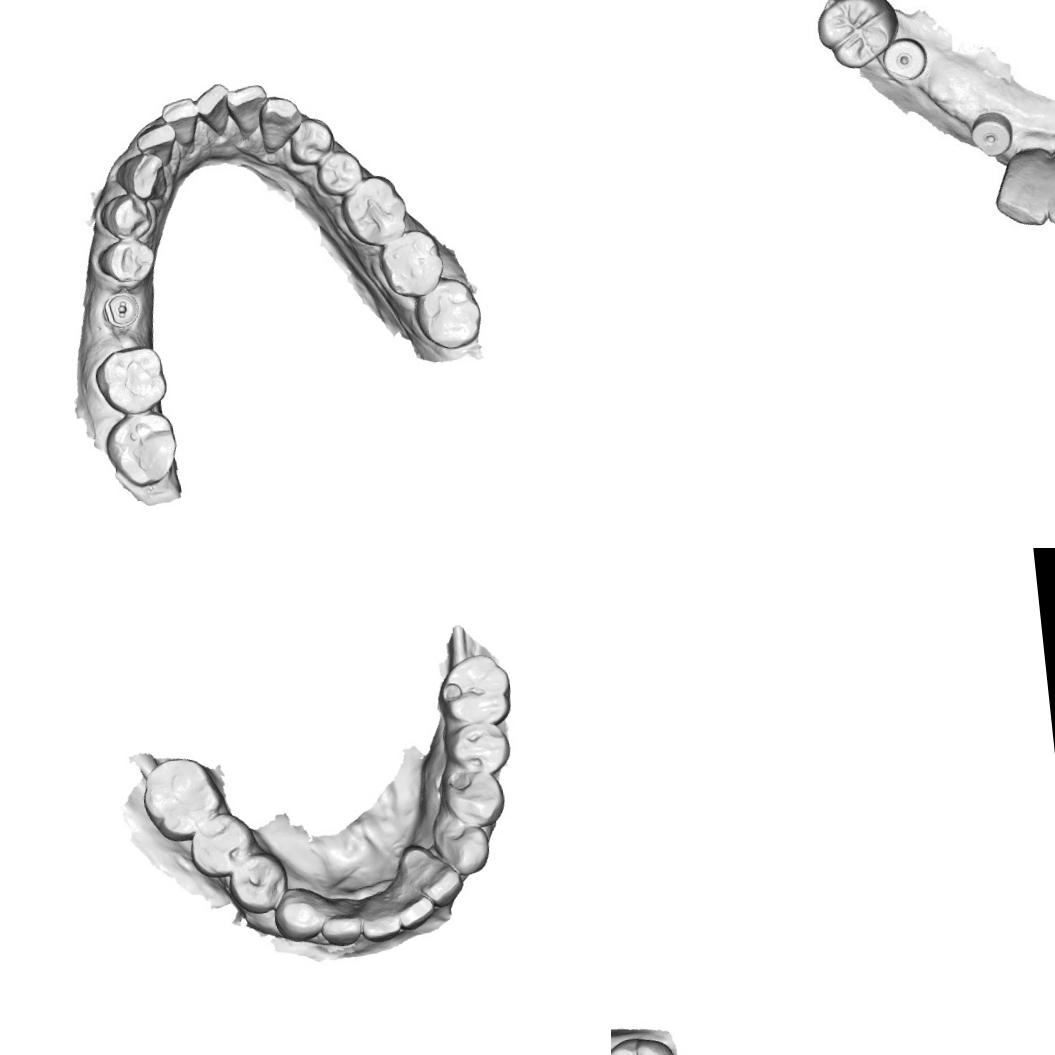canine: (987, 148, 1051, 230), (436, 819, 492, 879), (272, 884, 328, 944), (111, 150, 170, 206), (255, 92, 306, 154)
implant: (877, 28, 939, 88), (964, 102, 1016, 162)
implant_minus: (102, 290, 142, 330)
incisor: (404, 847, 464, 907), (224, 81, 272, 141), (158, 94, 202, 150), (132, 120, 180, 170), (192, 81, 234, 138), (358, 895, 402, 946), (392, 888, 438, 935), (320, 906, 363, 950), (1037, 137, 1055, 228)
molar: (136, 753, 229, 846), (100, 408, 182, 492), (434, 650, 512, 730), (337, 170, 413, 252), (410, 274, 486, 355), (91, 342, 170, 418), (374, 225, 448, 303), (813, 0, 893, 67), (611, 1031, 684, 1055)
premolar: (187, 808, 255, 882), (438, 766, 512, 828), (226, 849, 294, 916), (442, 720, 512, 780), (94, 236, 157, 290), (97, 189, 155, 245), (285, 114, 338, 168), (312, 148, 365, 200)
